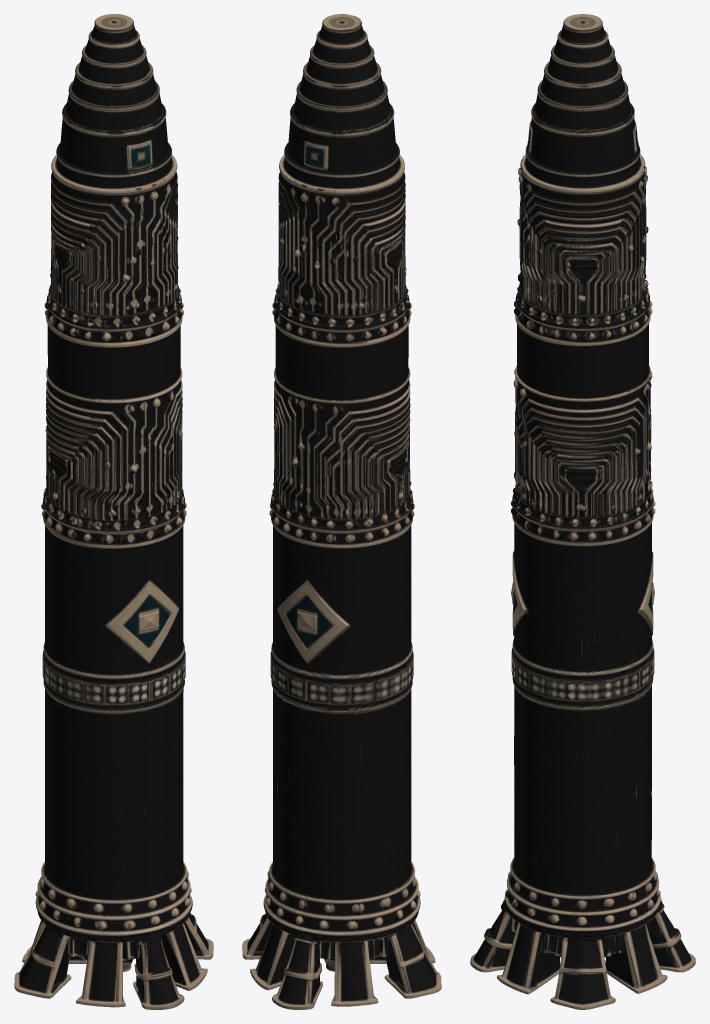
The model's file is uplink.glb.
3 views of the same model, side by side, from view 1: azimuth 30°, elevation 25°; view 2: azimuth 150°, elevation 25°; view 3: azimuth 270°, elevation 25° (orthographic).
Size of the model in its own units: 0.4103 by 1.9 by 0.4131.
1 material, 1 textured.
